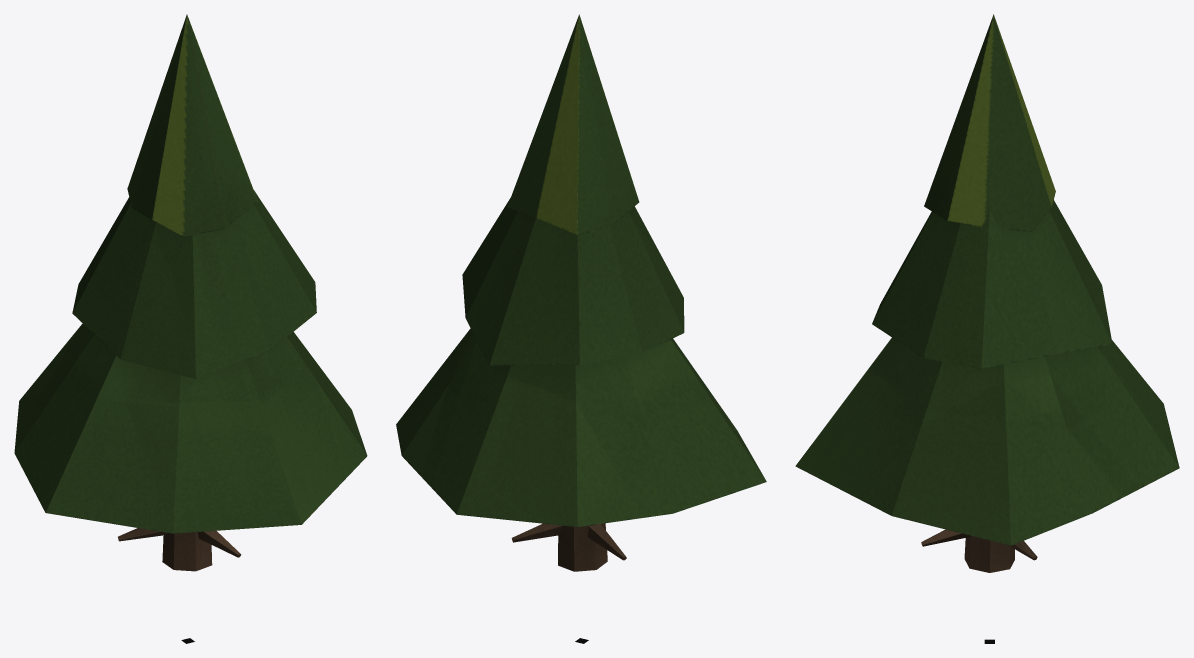
The model's file is feature_tree_2.fbx.
3 renders of one model, left to right at view 1: azimuth 30°, elevation 25°; view 2: azimuth 150°, elevation 25°; view 3: azimuth 270°, elevation 25°, orthographic.
Visible parts, largest first — view 1: base_bar; view 2: base_bar; view 3: base_bar.
Boxes of the visible parts, x1,y1,x2,y2 form: base_bar: (14, 14, 367, 571); base_bar: (396, 14, 766, 571); base_bar: (795, 14, 1179, 572).
Bounding box in the file's own units: 755 × 1336 × 741.
2 materials, 2 textured.
